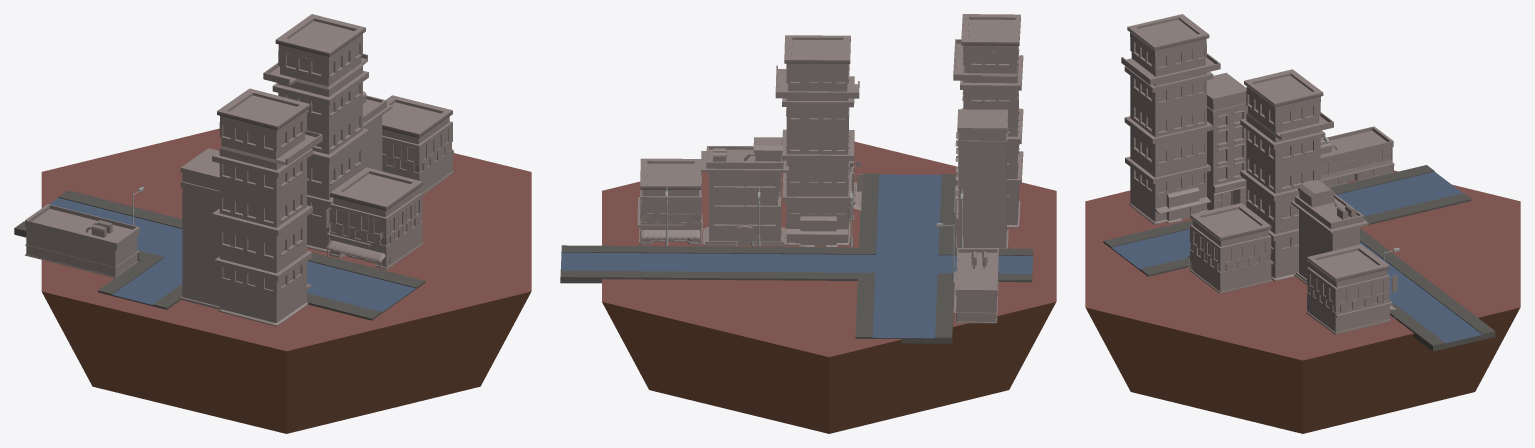
File: island02.gltf
3 views of the same model, side by side, from view 1: azimuth 30°, elevation 25°; view 2: azimuth 150°, elevation 25°; view 3: azimuth 270°, elevation 25° (orthographic). The views are drawn at different scales.
Visible parts, largest first — view 1: island02base, Island2buildings, island02road; view 2: island02base, Island2buildings, island02road, island02lamp; view 3: island02base, Island2buildings, island02road.
Part boxes in pixels (x1,y1,x2,y2): island02base: (41, 128, 531, 433); Island2buildings: (25, 14, 453, 326); island02road: (14, 190, 425, 320); island02base: (602, 141, 1056, 433); Island2buildings: (637, 14, 1023, 323); island02road: (560, 173, 1033, 343); island02lamp: (665, 187, 963, 282); island02base: (1085, 170, 1520, 433); Island2buildings: (1121, 14, 1397, 334); island02road: (1103, 165, 1495, 351).
Bounding box in the file's own units: 28.43 × 17.26 × 24.62.
